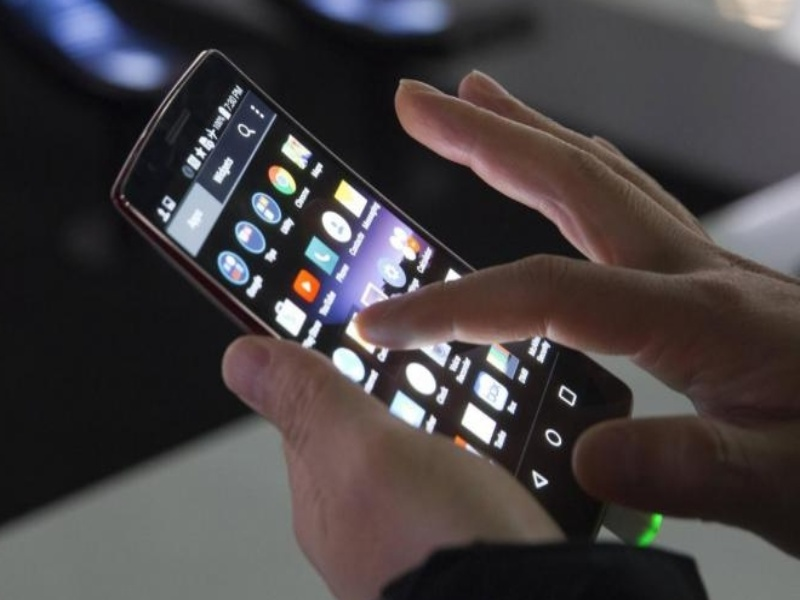mobile: (92, 34, 639, 549)
